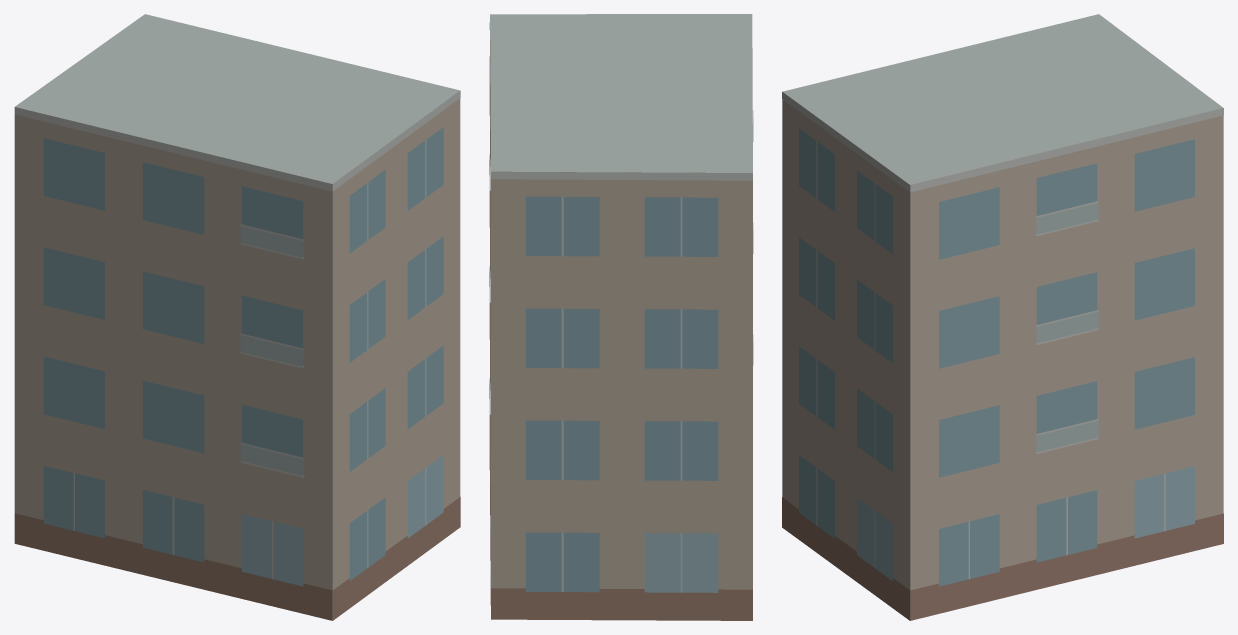
Rendered from survey-upis-32524423.glb.
3 renders of one model, left to right at view 1: azimuth 30°, elevation 25°; view 2: azimuth 150°, elevation 25°; view 3: azimuth 270°, elevation 25°, orthographic. The views are drawn at different scales.
Visible parts, largest first — view 1: survey-upis-32524423.tmp; view 2: survey-upis-32524423.tmp; view 3: survey-upis-32524423.tmp.
Part boxes in pixels (<box>): survey-upis-32524423.tmp: <box>14,14,460,620</box>; survey-upis-32524423.tmp: <box>489,14,753,620</box>; survey-upis-32524423.tmp: <box>782,14,1223,620</box>.
Size of the model in its own units: 12.04 by 14.3 by 13.14.
